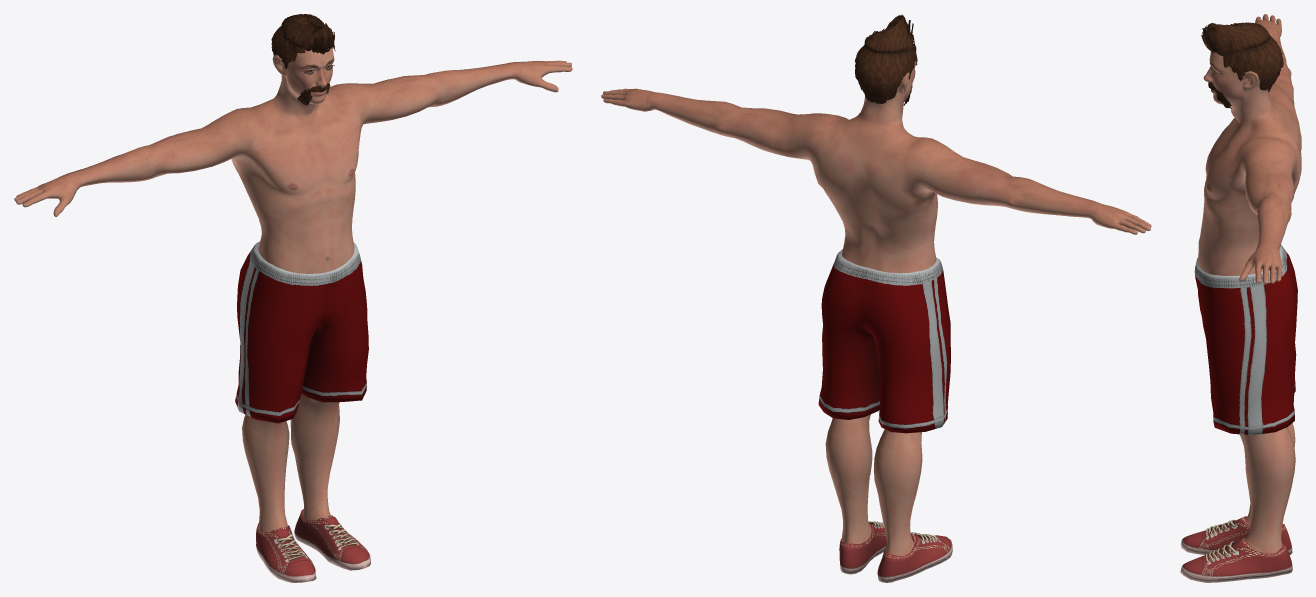
The model's file is character.obj.
3 renders of one model, left to right at view 1: azimuth 30°, elevation 25°; view 2: azimuth 150°, elevation 25°; view 3: azimuth 270°, elevation 25°, orthographic.
Parts seen in each view (by area): view 1: Body, Bottoms, Shoes, Hair; view 2: Body, Bottoms, Hair, Shoes; view 3: Body, Bottoms, Shoes, Hair, Moustaches.
Boxes of the visible parts, box(x1,y1,x2,y2) form: Body: box(14, 19, 572, 532); Bottoms: box(235, 241, 368, 423); Shoes: box(256, 509, 370, 582); Hair: box(271, 14, 335, 69); Body: box(601, 46, 1151, 556); Bottoms: box(818, 249, 950, 433); Hair: box(855, 14, 917, 103); Shoes: box(839, 521, 952, 582); Body: box(1198, 14, 1301, 553); Bottoms: box(1194, 245, 1297, 435); Shoes: box(1180, 516, 1292, 582); Hair: box(1201, 22, 1283, 91); Moustaches: box(1208, 82, 1232, 108).
Size of the model in its own units: 192 by 178 by 36.39.
5 materials, 5 textured.
